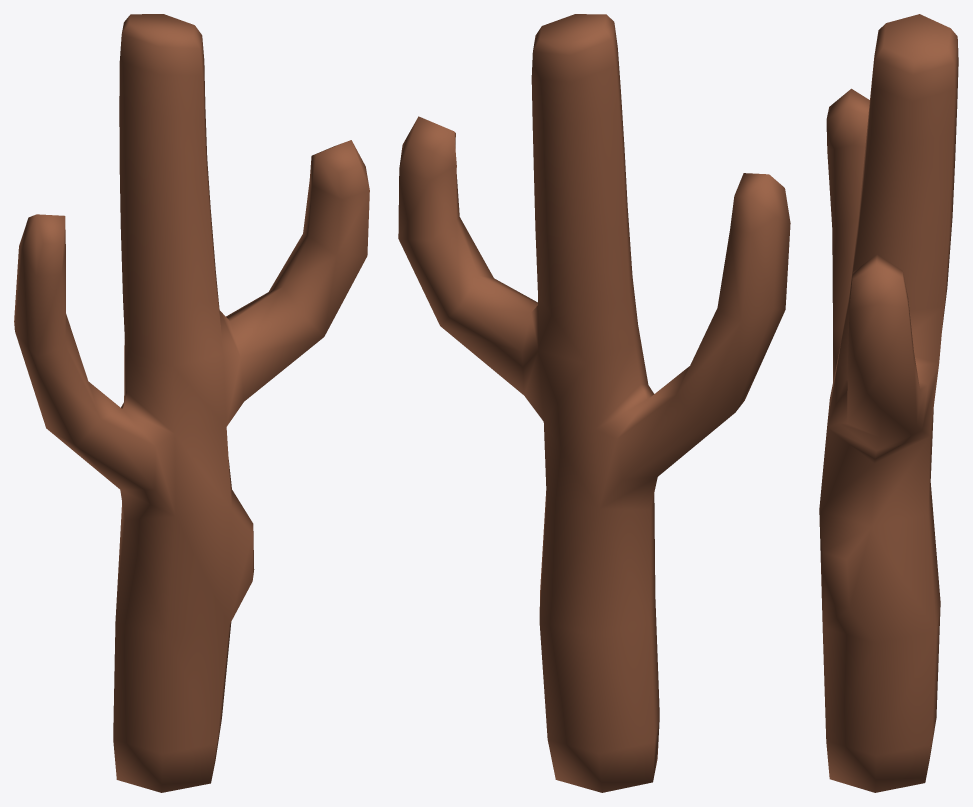
Rendered from Tree_Btm_D_01_LOD2.gltf.
The picture shows the model from 3 angles, left to right: view 1: azimuth 30°, elevation 25°; view 2: azimuth 150°, elevation 25°; view 3: azimuth 270°, elevation 25°; orthographic projection. The views are drawn at different scales.
Parts seen in each view (by area): view 1: Tree_Btm_D_01_LOD2_Cylinder.669; view 2: Tree_Btm_D_01_LOD2_Cylinder.669; view 3: Tree_Btm_D_01_LOD2_Cylinder.669.
Part boxes in pixels (bbox=[...]): Tree_Btm_D_01_LOD2_Cylinder.669: bbox=[14, 14, 369, 792]; Tree_Btm_D_01_LOD2_Cylinder.669: bbox=[398, 14, 790, 792]; Tree_Btm_D_01_LOD2_Cylinder.669: bbox=[819, 14, 958, 792].
Size of the model in its own units: 3.52 by 7 by 1.18.
Materials: 1 (1 with a texture image).
